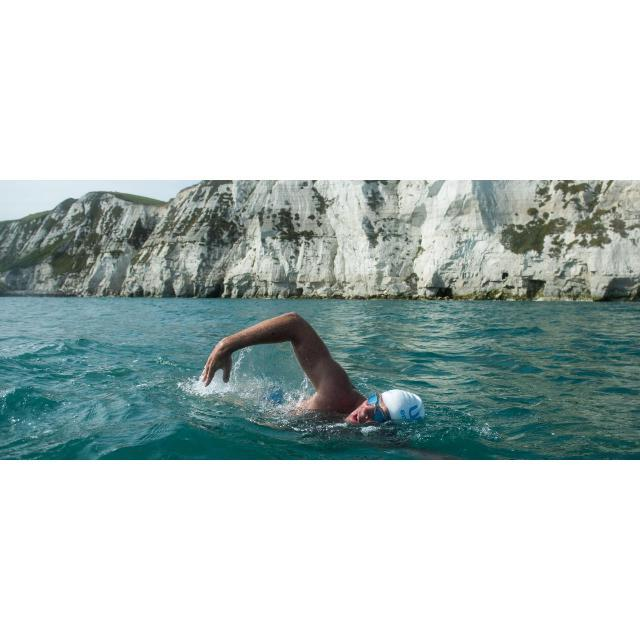human: (200, 313, 427, 430)
